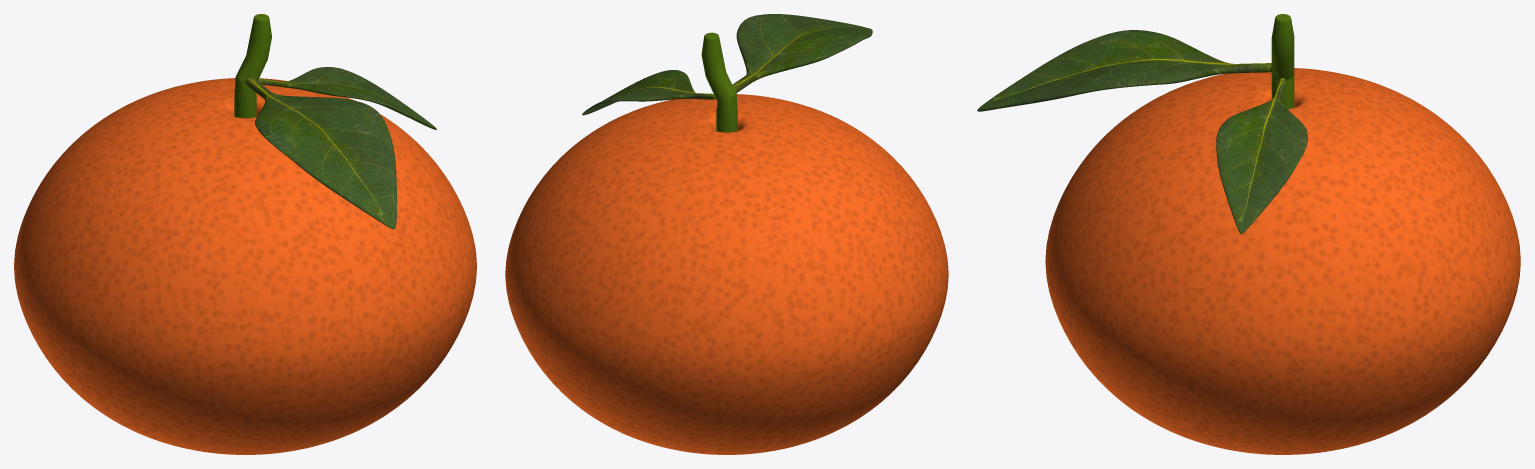
The model's file is orange.glb.
3 views of the same model, side by side, from view 1: azimuth 30°, elevation 25°; view 2: azimuth 150°, elevation 25°; view 3: azimuth 270°, elevation 25° (orthographic). The views are drawn at different scales.
Visible parts, largest first — view 1: 球体, 平面, 平面.001, 柱体; view 2: 球体, 平面, 平面.001, 柱体; view 3: 球体, 平面, 平面.001, 柱体.
Part boxes in pixels (bbox=[...]): 球体: bbox=[14, 78, 476, 454]; 平面: bbox=[245, 78, 396, 229]; 平面.001: bbox=[258, 67, 436, 129]; 柱体: bbox=[234, 14, 271, 118]; 球体: bbox=[505, 94, 948, 454]; 平面: bbox=[732, 14, 872, 92]; 平面.001: bbox=[582, 70, 715, 115]; 柱体: bbox=[701, 32, 737, 132]; 球体: bbox=[1045, 68, 1520, 454]; 平面: bbox=[977, 30, 1272, 111]; 平面.001: bbox=[1216, 78, 1307, 233]; 柱体: bbox=[1271, 14, 1294, 108].
Bounding box in the file's own units: 1.85 × 1.78 × 2.11.
Materials: 3 (3 with a texture image).
